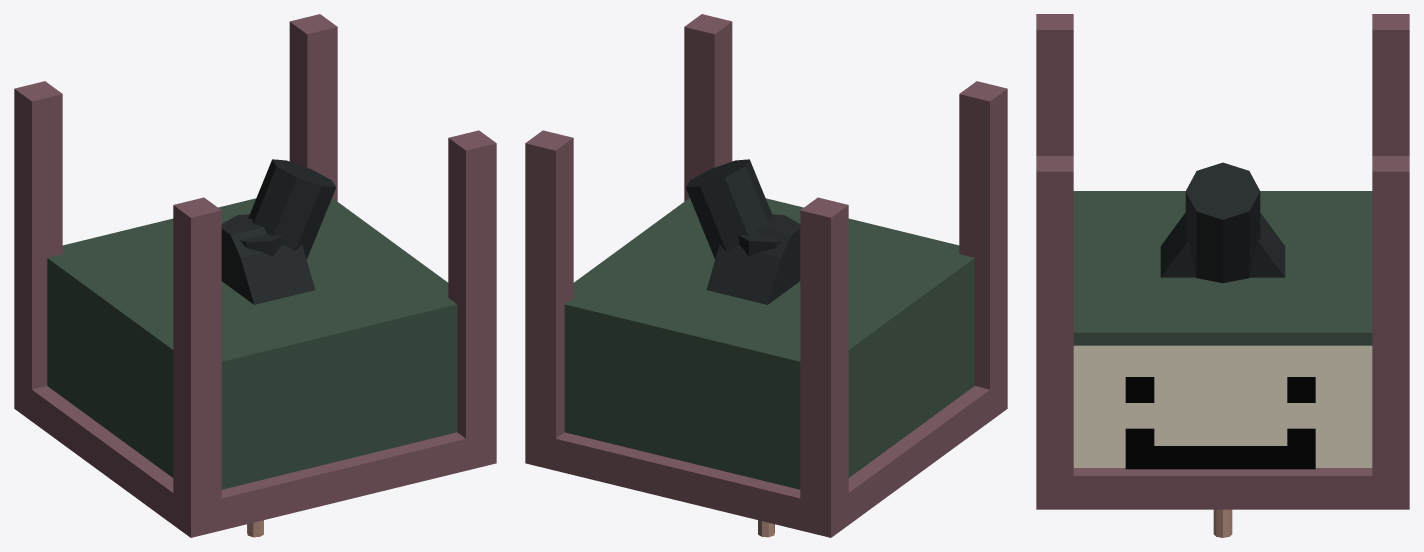
The model's file is ld56_robot_models.gltf.
The picture shows the model from 3 angles, left to right: view 1: azimuth 30°, elevation 25°; view 2: azimuth 150°, elevation 25°; view 3: azimuth 270°, elevation 25°; orthographic projection. The views are drawn at different scales.
Parts seen in each view (by area): view 1: ComputeBox, Chassis, Pipe_bent, Treads, Pipe_straight; view 2: ComputeBox, Chassis, Pipe_bent, Treads, Pipe_straight; view 3: ComputeBox, Chassis, Pipe_bent, ComputeBoxFace, Treads, Plunger.
Boxes of the visible parts, bbox=[...] form: ComputeBox: bbox=[47, 198, 457, 489]; Chassis: bbox=[14, 14, 496, 537]; Pipe_bent: bbox=[248, 159, 335, 259]; Treads: bbox=[221, 218, 315, 304]; Pipe_straight: bbox=[221, 214, 283, 256]; ComputeBox: bbox=[564, 198, 974, 489]; Chassis: bbox=[525, 14, 1007, 537]; Pipe_bent: bbox=[686, 159, 773, 259]; Treads: bbox=[706, 218, 800, 304]; Pipe_straight: bbox=[738, 214, 800, 256]; ComputeBox: bbox=[1073, 191, 1372, 467]; Chassis: bbox=[1036, 14, 1409, 509]; Pipe_bent: bbox=[1185, 162, 1260, 283]; ComputeBoxFace: bbox=[1125, 377, 1315, 469]; Treads: bbox=[1160, 213, 1285, 277]; Plunger: bbox=[1213, 509, 1232, 537].
Size of the model in its own units: 2 by 2.61 by 2.
Materials: 2 (2 with a texture image).
